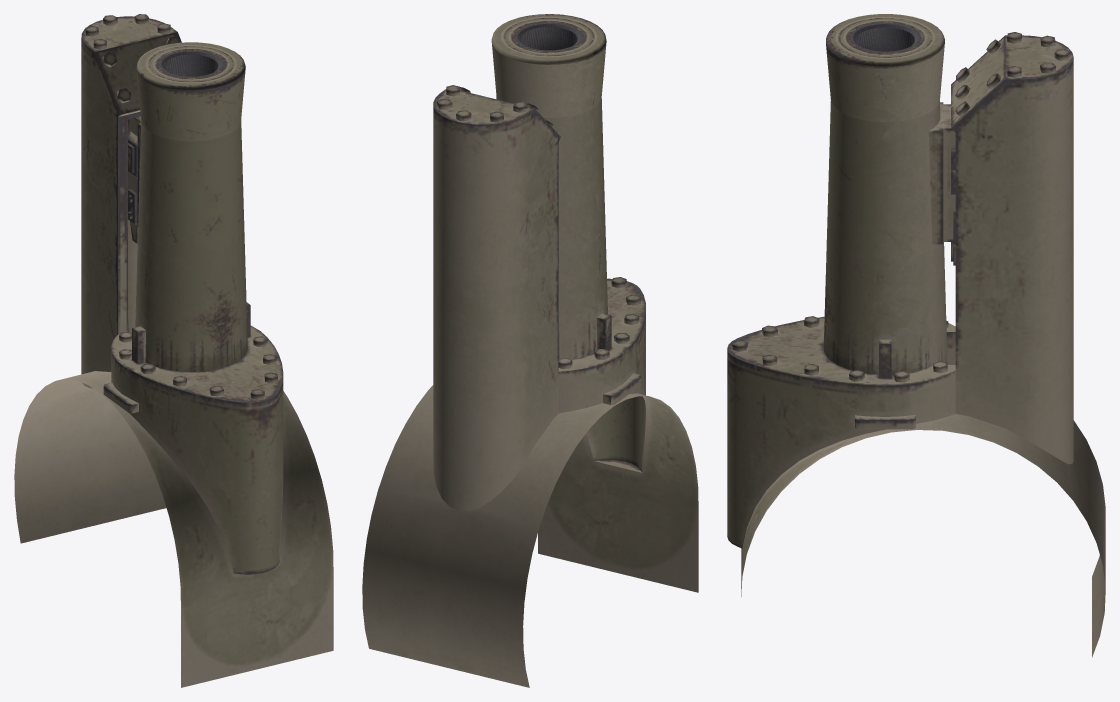
The model's file is Gun_01.glb.
3 renders of one model, left to right at view 1: azimuth 30°, elevation 25°; view 2: azimuth 150°, elevation 25°; view 3: azimuth 270°, elevation 25°, orthographic. The views are drawn at different scales.
Visible parts, largest first — view 1: set_0_group_0; view 2: set_0_group_0; view 3: set_0_group_0.
Part boxes in pixels (x1,y1,x2,y2): set_0_group_0: (14, 14, 333, 687); set_0_group_0: (362, 14, 698, 687); set_0_group_0: (727, 14, 1105, 657).
Size of the model in its own units: 0.758 by 2.64 by 1.49.
Materials: 1 (1 with a texture image).
